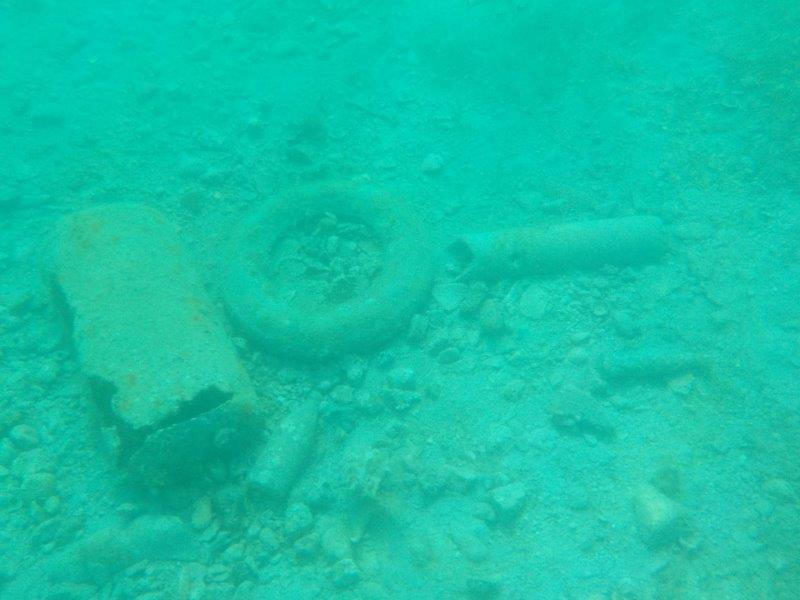bottle: (244, 382, 332, 506), (593, 339, 721, 385)
tire: (216, 176, 445, 372)
